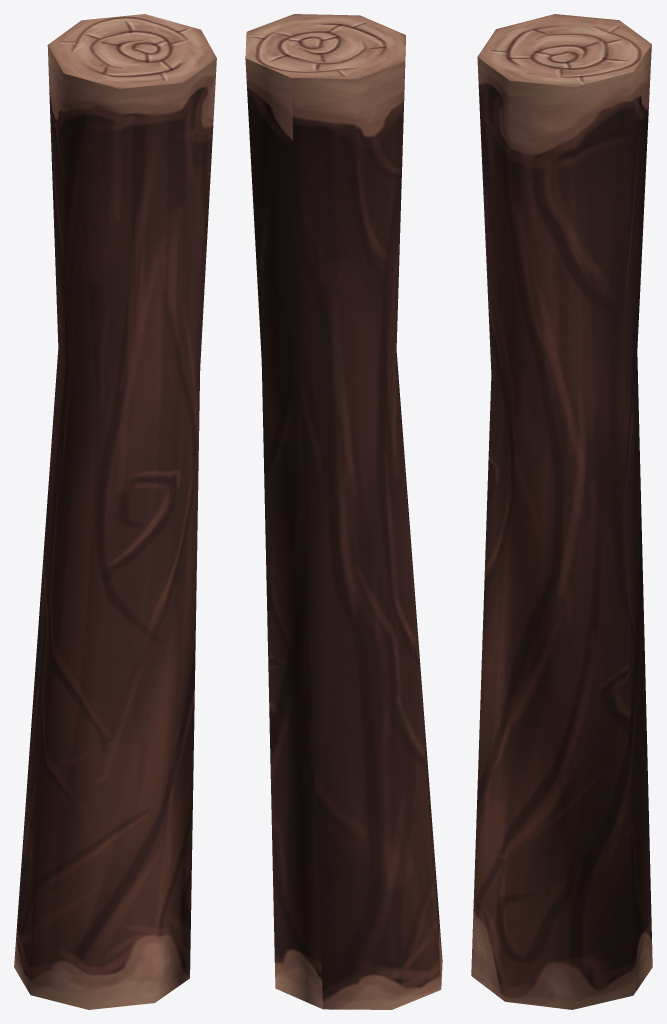
Rendered from wooden_pillar_01.fbx.
3 renders of one model, left to right at view 1: azimuth 30°, elevation 25°; view 2: azimuth 150°, elevation 25°; view 3: azimuth 270°, elevation 25°, orthographic. The views are drawn at different scales.
Visible parts, largest first — view 1: wooden_pillar_02; view 2: wooden_pillar_02; view 3: wooden_pillar_02.
Part boxes in pixels (x1=…): wooden_pillar_02: x1=14, y1=14, x2=216, y2=1009; wooden_pillar_02: x1=245, y1=14, x2=442, y2=1009; wooden_pillar_02: x1=471, y1=14, x2=652, y2=1009.
Size of the model in its own units: 1.85 by 8.89 by 1.56.
